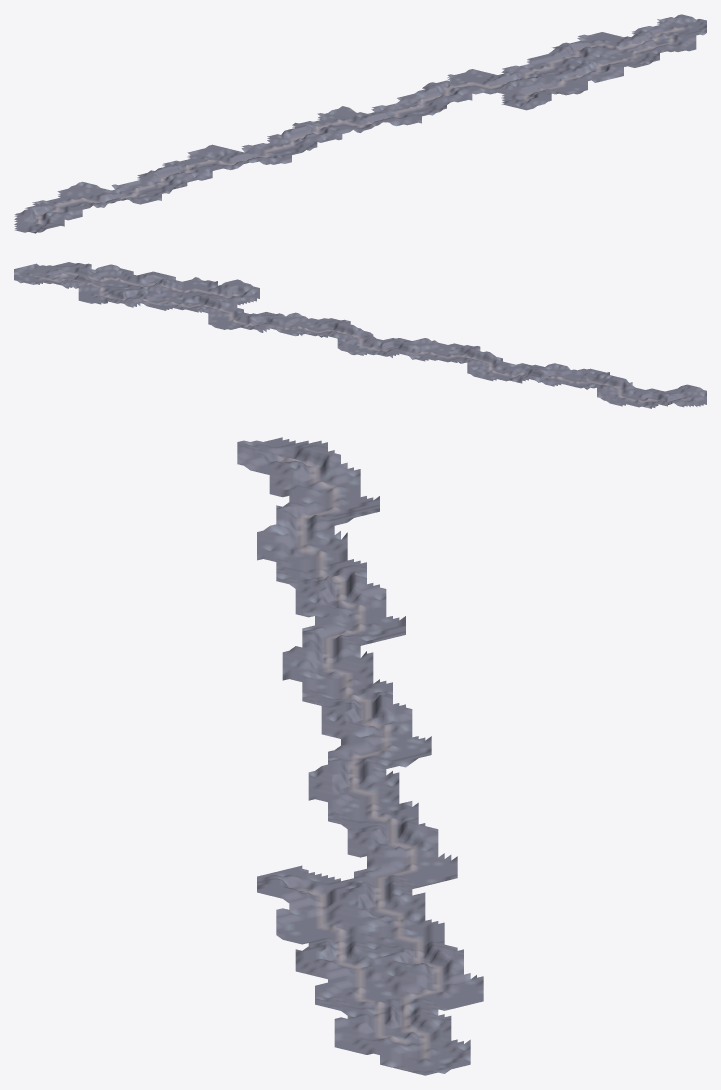
File: terrain.glb
3 renders of one model, top to bottom at view 1: azimuth 30°, elevation 25°; view 2: azimuth 150°, elevation 25°; view 3: azimuth 270°, elevation 25°, orthographic. The views are drawn at different scales.
Visible parts, largest first — view 1: NATURAL_13_-2, NATURAL_12_-1, NATURAL_3_-1, NATURAL_14_-2, NATURAL_15_-2, NATURAL_11_-2, NATURAL_8_-2, NATURAL_1_-1, NATURAL_10_-2, NATURAL_2_-1, NATURAL_5_-1, NATURAL_13_-1 (+14 smaller); view 2: NATURAL_1_-1, NATURAL_15_-2, NATURAL_11_-2, NATURAL_13_-2, NATURAL_5_-1, NATURAL_14_-2, NATURAL_12_-2, NATURAL_11_-1, NATURAL_6_-1, NATURAL_3_-1, NATURAL_8_-2, NATURAL_2_-1 (+17 smaller); view 3: NATURAL_14_-2, NATURAL_12_-1, NATURAL_11_-2, NATURAL_5_-1, NATURAL_15_-2, NATURAL_1_-1, NATURAL_13_-2, NATURAL_2_-1, NATURAL_12_-2, NATURAL_0_-1, NATURAL_3_-1, NATURAL_16_-2 (+17 smaller).
Boxes of the visible parts, x1,y1,x2,y2 form: NATURAL_13_-2: [523, 50, 601, 74]; NATURAL_12_-1: [516, 74, 587, 94]; NATURAL_3_-1: [133, 166, 204, 190]; NATURAL_14_-2: [559, 44, 645, 65]; NATURAL_15_-2: [603, 31, 687, 54]; NATURAL_11_-2: [429, 76, 514, 96]; NATURAL_8_-2: [314, 106, 385, 126]; NATURAL_1_-1: [40, 188, 124, 212]; NATURAL_10_-2: [397, 83, 471, 108]; NATURAL_2_-1: [83, 182, 168, 200]; NATURAL_5_-1: [213, 148, 291, 165]; NATURAL_13_-1: [559, 63, 623, 82]; NATURAL_1_-1: [606, 376, 645, 407]; NATURAL_15_-2: [62, 266, 101, 294]; NATURAL_11_-2: [218, 300, 256, 329]; NATURAL_13_-2: [140, 285, 178, 309]; NATURAL_5_-1: [451, 343, 489, 370]; NATURAL_14_-2: [101, 276, 140, 300]; NATURAL_12_-2: [179, 293, 217, 323]; NATURAL_11_-1: [218, 282, 256, 310]; NATURAL_6_-1: [412, 338, 451, 360]; NATURAL_3_-1: [529, 364, 567, 385]; NATURAL_8_-2: [334, 331, 373, 355]; NATURAL_2_-1: [567, 369, 606, 396]; NATURAL_14_-2: [360, 945, 438, 1008]; NATURAL_12_-1: [282, 886, 360, 944]; NATURAL_11_-2: [360, 832, 438, 893]; NATURAL_5_-1: [282, 630, 360, 680]; NATURAL_15_-2: [360, 990, 438, 1046]; NATURAL_1_-1: [282, 475, 360, 530]; NATURAL_13_-2: [360, 915, 438, 970]; NATURAL_2_-1: [282, 510, 360, 569]; NATURAL_12_-2: [360, 876, 438, 931]; NATURAL_0_-1: [282, 442, 360, 496]; NATURAL_3_-1: [282, 554, 360, 607]; NATURAL_16_-2: [360, 1023, 438, 1072].
Size of the model in its own units: 380 by 2.9 by 61.56.
